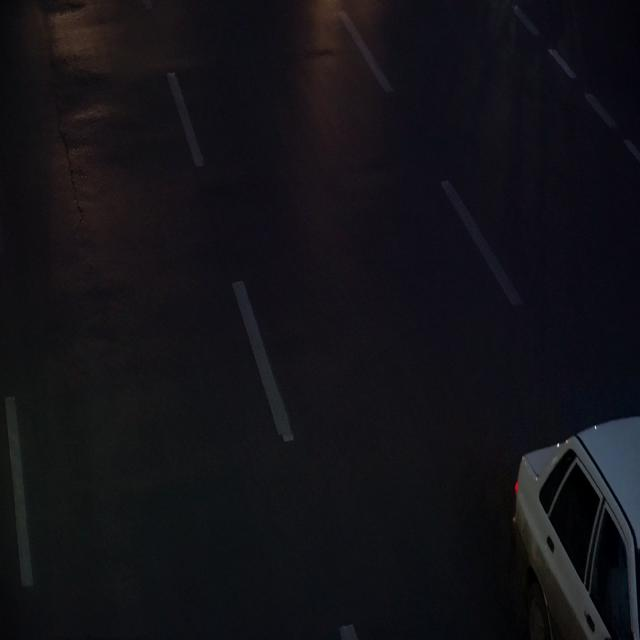car: (512, 414, 640, 640)
